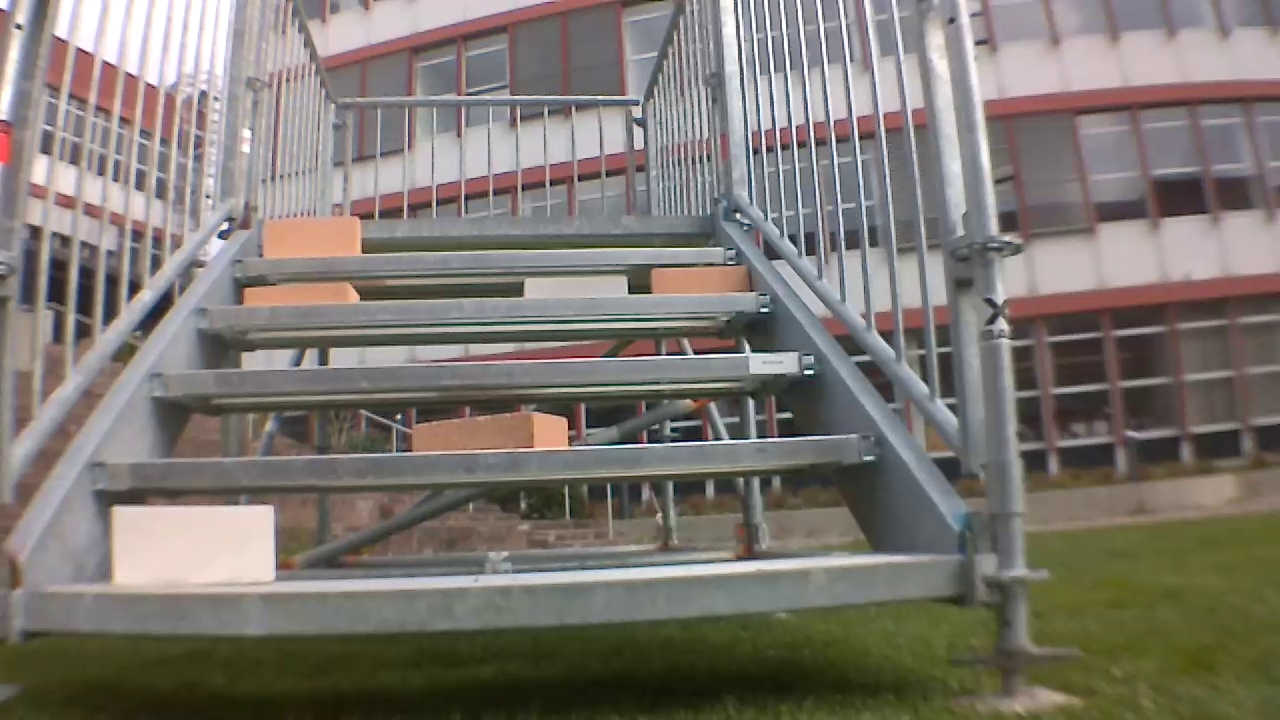brick: (113, 507, 274, 588), (411, 411, 567, 451), (263, 216, 359, 257), (650, 265, 749, 294), (244, 283, 358, 305), (524, 276, 626, 296)
edge: (26, 556, 967, 633), (92, 434, 878, 486), (151, 350, 822, 394), (196, 292, 774, 326), (234, 247, 742, 273), (252, 215, 713, 235)
stairs: (7, 4, 1033, 711)
steps: (18, 210, 975, 642)
